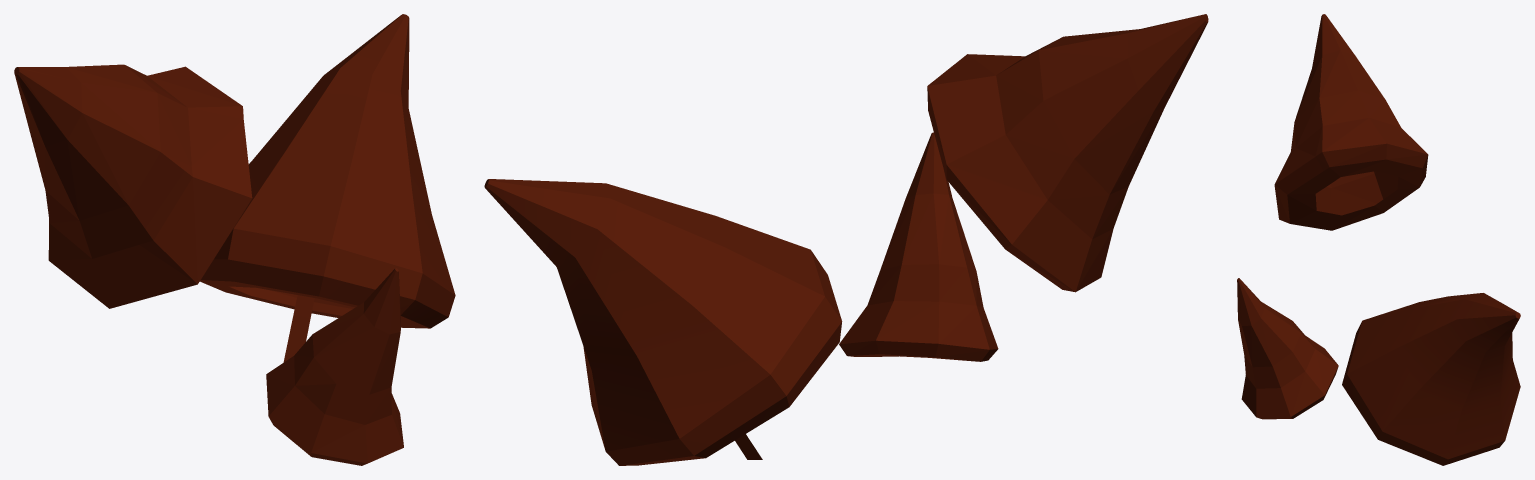
Rendered from fly_agaric001_c_0_lev1.glb.
The picture shows the model from 3 angles, left to right: view 1: azimuth 30°, elevation 25°; view 2: azimuth 150°, elevation 25°; view 3: azimuth 270°, elevation 25°; orthographic projection. The views are drawn at different scales.
Parts seen in each view (by area): view 1: fly_agaric001_c_0_lev1; view 2: fly_agaric001_c_0_lev1; view 3: fly_agaric001_c_0_lev1.
Boxes of the visible parts, bbox=[...] form: fly_agaric001_c_0_lev1: bbox=[14, 14, 455, 465]; fly_agaric001_c_0_lev1: bbox=[484, 14, 1208, 465]; fly_agaric001_c_0_lev1: bbox=[1237, 14, 1520, 465].
Bounding box in the file's own units: 0.3328 × 0.2674 × 0.224.
